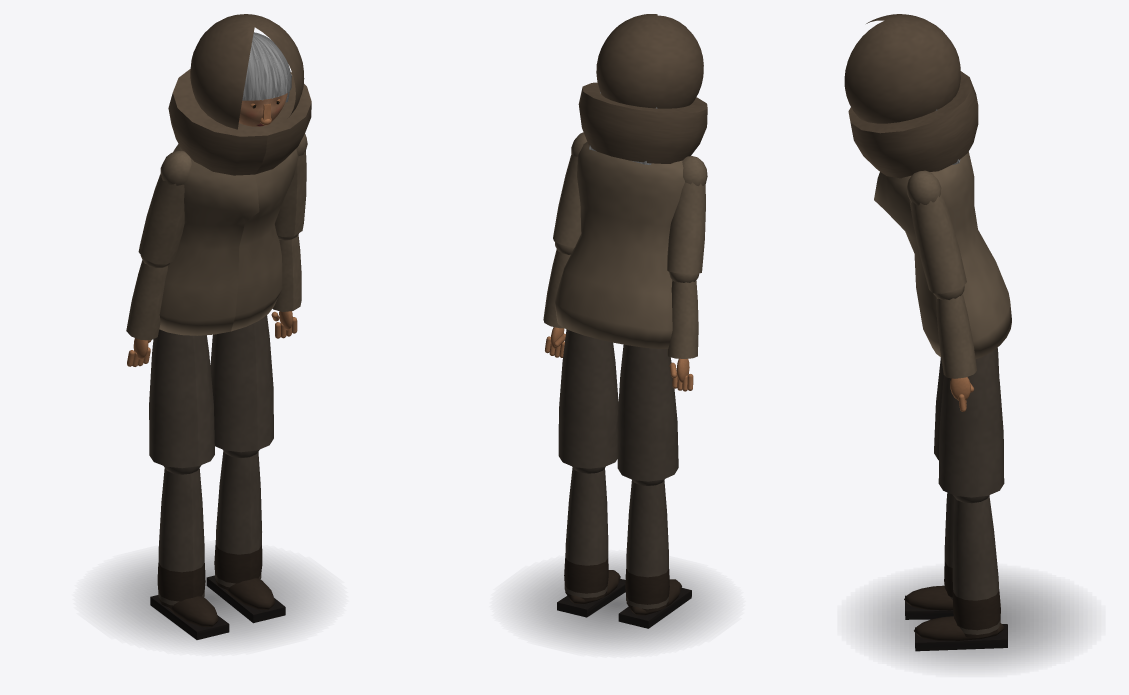
The model's file is npc_tamsin.glb.
3 renders of one model, left to right at view 1: azimuth 30°, elevation 25°; view 2: azimuth 150°, elevation 25°; view 3: azimuth 270°, elevation 25°, orthographic. The views are drawn at different scales.
Visible parts, largest first — view 1: head, chest, object 11, legL, shinL, shinR, legR, armL, foreL, foreR, armR; view 2: chest, head, object 11, legL, legR, shinR, shinL, armL, foreL, armR, foreR; view 3: head, object 11, chest, shinR, legR, armR, foreR, shinL, legL.
Part boxes in pixels (x1,y1,x2,y2): head: [168, 14, 311, 175]; chest: [159, 144, 298, 335]; object 11: [100, 551, 320, 644]; legL: [149, 329, 214, 468]; shinL: [150, 465, 229, 639]; shinR: [206, 449, 285, 623]; legR: [210, 315, 273, 452]; armL: [138, 151, 191, 264]; foreL: [126, 255, 169, 366]; foreR: [271, 233, 301, 338]; armR: [275, 134, 307, 237]; chest: [554, 142, 684, 348]; head: [578, 14, 707, 164]; object 11: [515, 561, 719, 646]; legL: [617, 344, 678, 481]; legR: [558, 329, 618, 468]; shinR: [557, 466, 625, 617]; shinL: [618, 479, 691, 628]; armL: [667, 156, 707, 273]; foreL: [667, 271, 699, 391]; armR: [553, 132, 587, 247]; foreR: [543, 242, 573, 357]; head: [844, 14, 978, 178]; object 11: [864, 577, 1078, 665]; chest: [874, 152, 1011, 358]; shinR: [914, 495, 1007, 651]; legR: [938, 349, 1004, 497]; armR: [907, 170, 966, 293]; foreR: [933, 285, 976, 411]; shinL: [904, 492, 954, 619]; legL: [934, 347, 999, 460].
Bounding box in the file's own units: 0.77 × 1.81 × 0.77.
6 materials, 5 textured.
